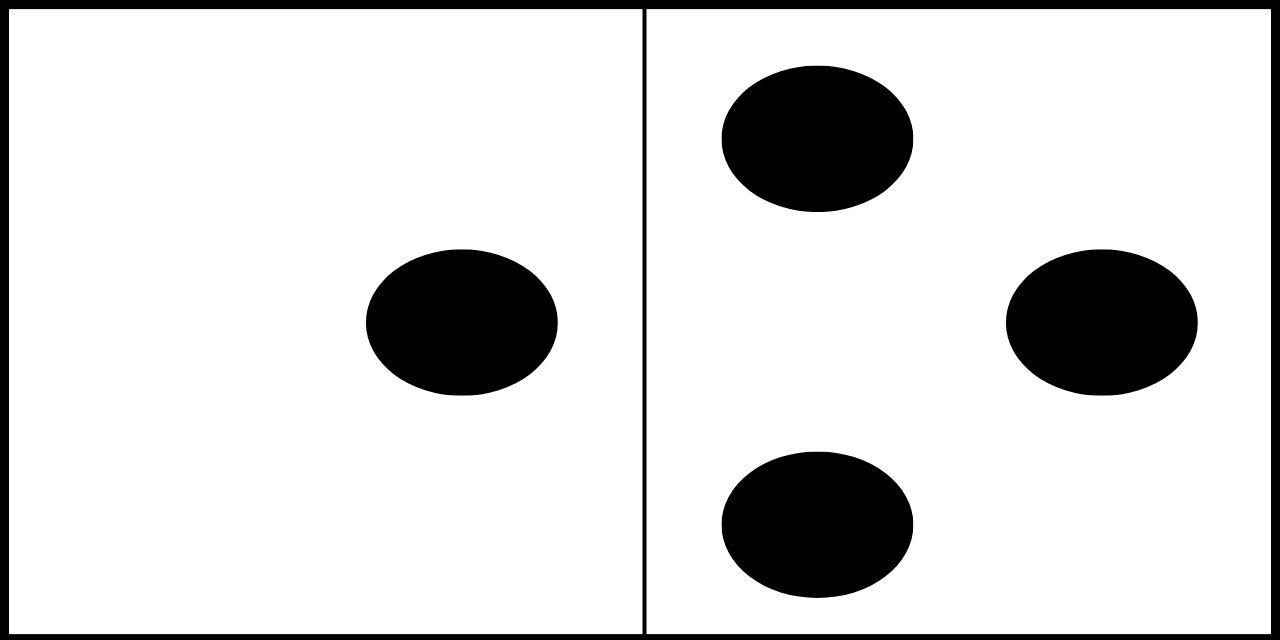dot_5: (89, 66, 561, 595)
opo: (721, 65, 1201, 598)
